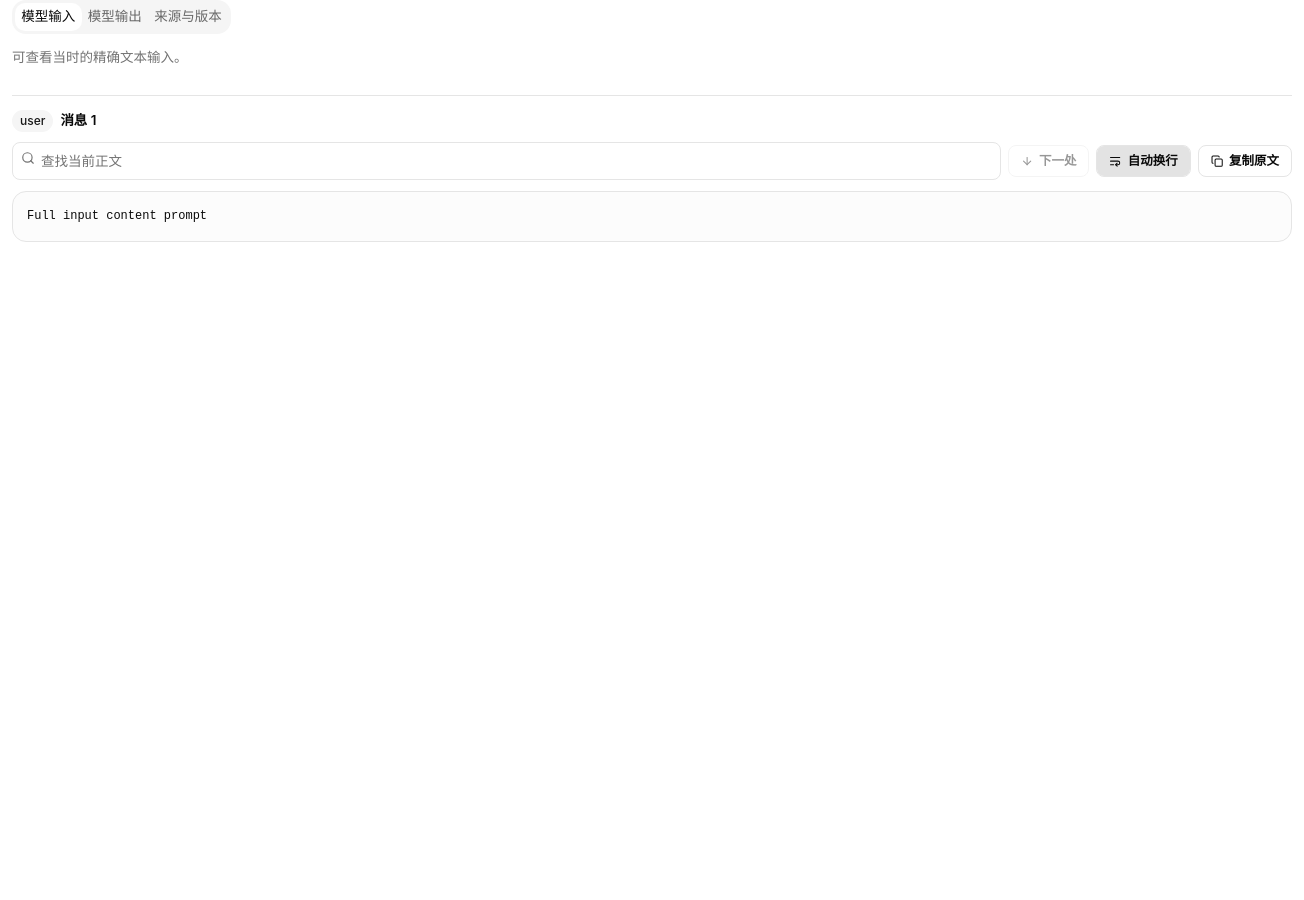
Scenario: InspectedEvidence lazy panel content rendering › renders full content for each tab without pagination cutoff or missing rows
This screenshot has width=1304, height=900.
Expected: the text "Full input content prompt" is shown, [12, 191, 1292, 242]
Step 1. Press the mouse on the tab "模型输出" → (115, 17), box [82, 3, 148, 31]
Step 2. Press the mouse on the tab "模型输出" → (115, 17), box [82, 3, 148, 31]
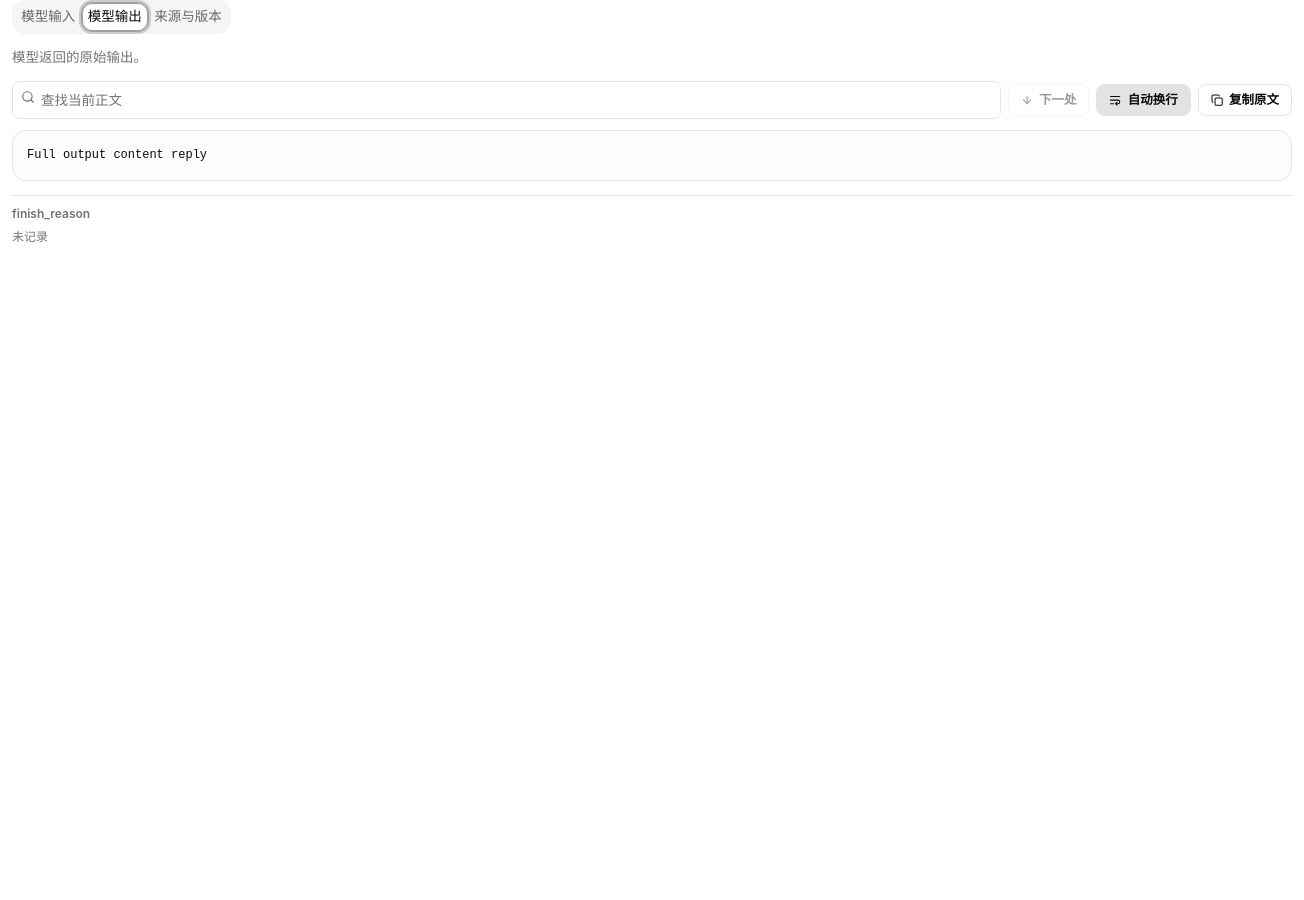
Result: the text "Full output content reply" is shown at [12, 130, 1292, 181]
Step 3. Press the mouse on the tab "来源与版本" → (188, 17), box [148, 3, 228, 31]
Step 4. Press the mouse on the tab "来源与版本" → (188, 17), box [148, 3, 228, 31]
(page scrolled)
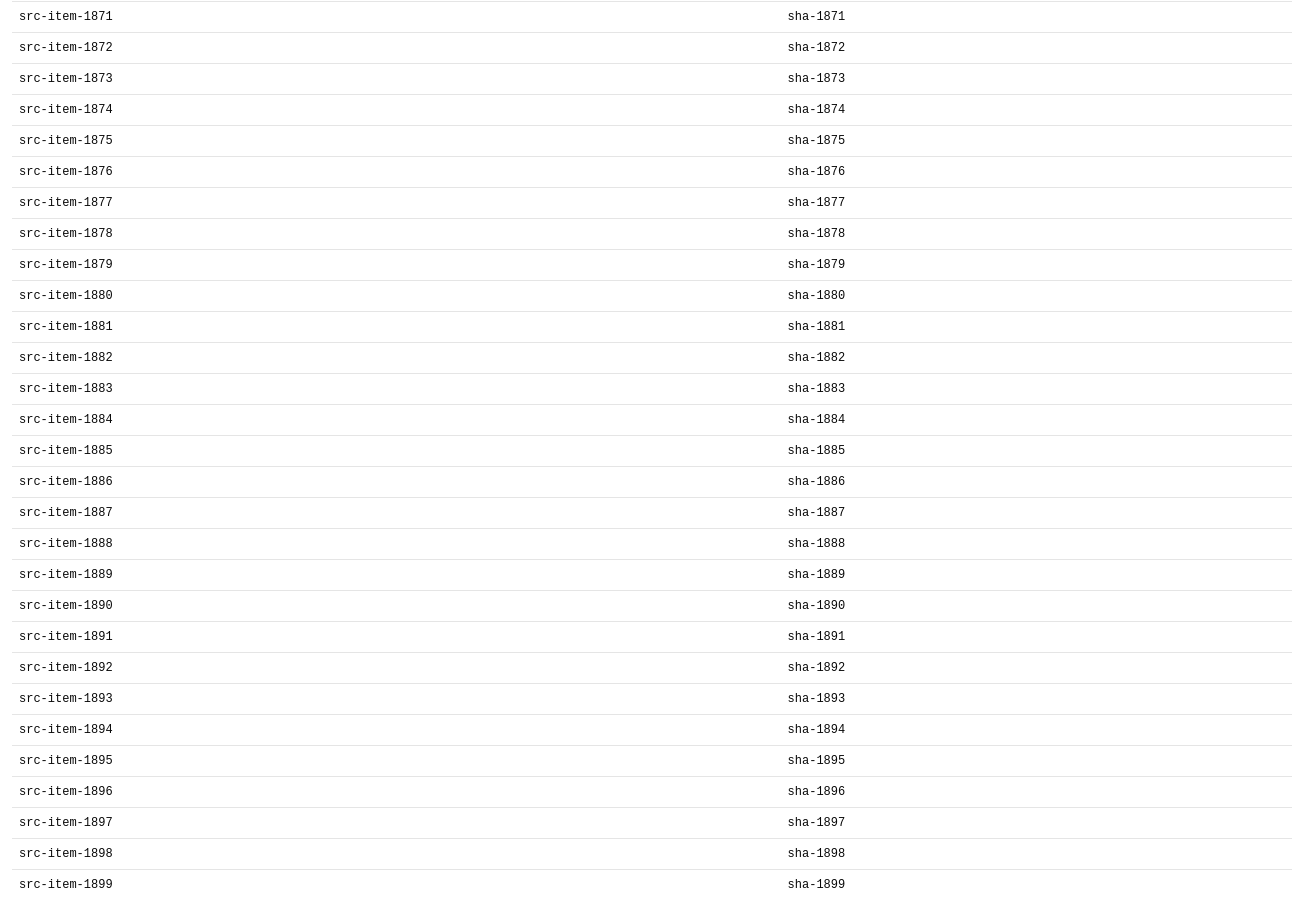
Result: the text "src-item-1899" is shown at [12, 869, 781, 899]
